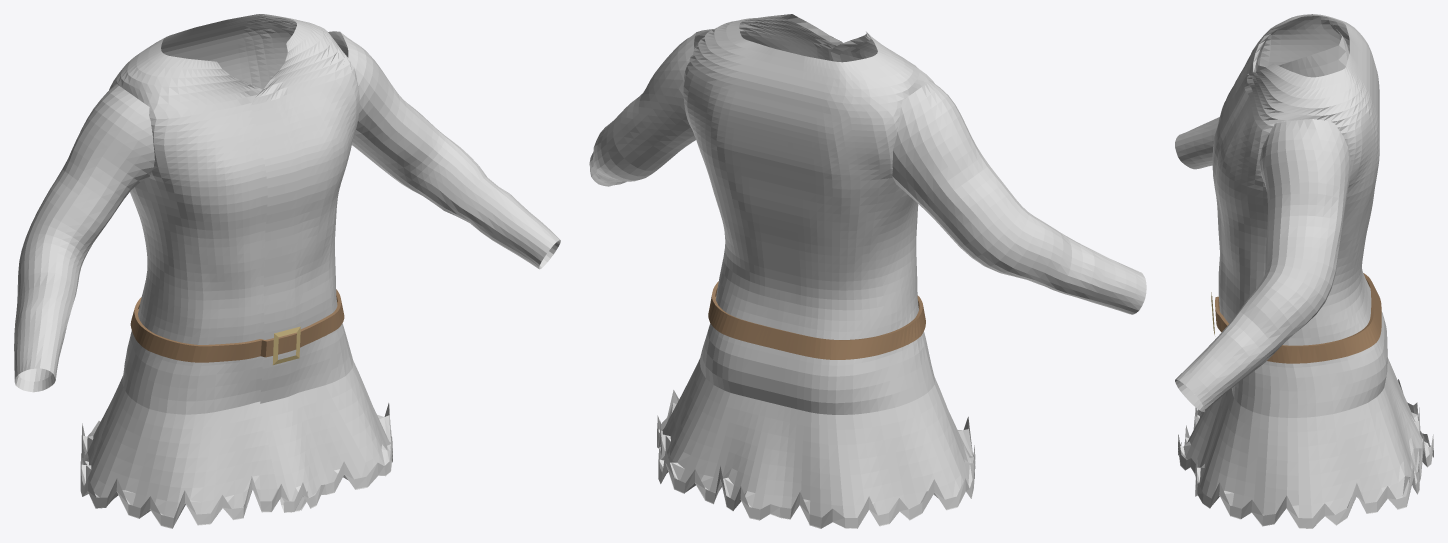
Rendered from ewb_robinhood.glb.
3 renders of one model, left to right at view 1: azimuth 30°, elevation 25°; view 2: azimuth 150°, elevation 25°; view 3: azimuth 270°, elevation 25°, orthographic. The views are drawn at different scales.
Visible parts, largest first — view 1: ewb_robinhood; view 2: ewb_robinhood; view 3: ewb_robinhood.
Part boxes in pixels (<box>): ewb_robinhood: <box>14,14,560,528</box>; ewb_robinhood: <box>589,14,1146,528</box>; ewb_robinhood: <box>1175,14,1433,528</box>.
Bounding box in the file's own units: 1.11 × 0.8346 × 0.4715.
